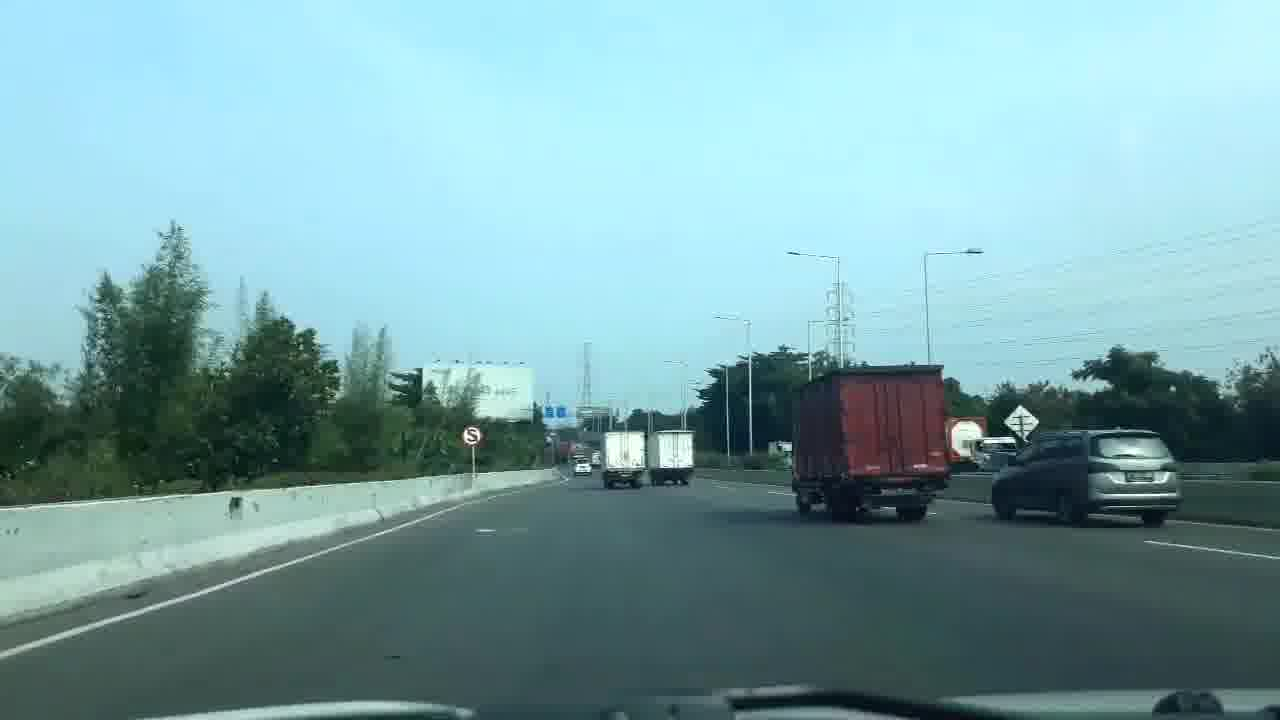plate_positive: (882, 486, 914, 495), (1125, 471, 1153, 481)
